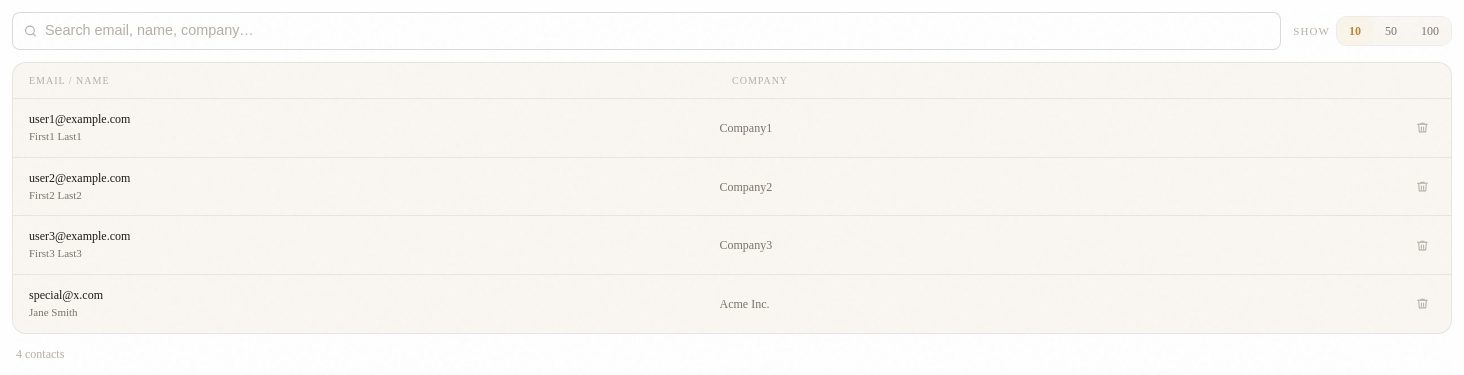
Test: ContactsTable › shows filtered count when search is active
Type "special" into the search field at [647, 31], box [12,12,1281,50]
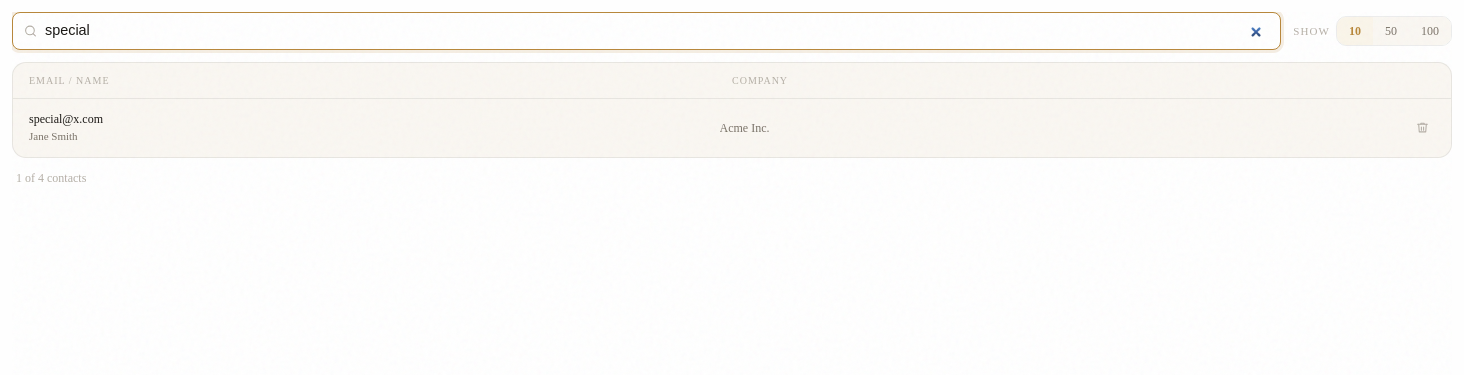
Expected: the text "1 of 4 contacts" is shown, [16,170,86,186]
